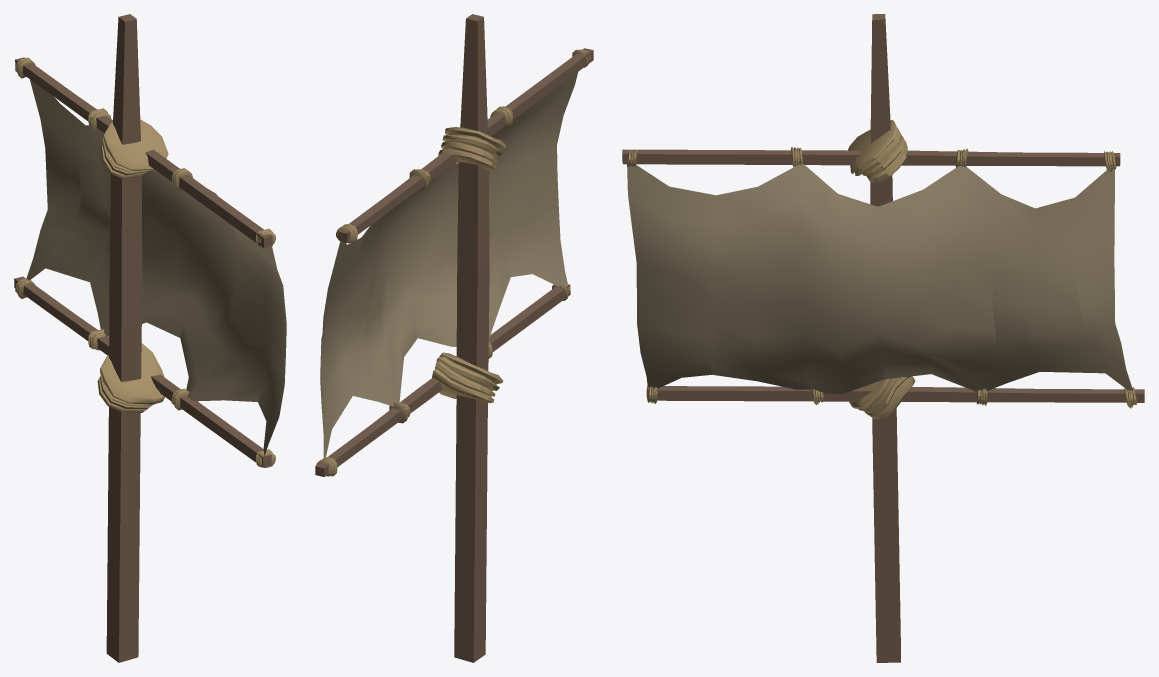
File: Mast.fbx
The picture shows the model from 3 angles, left to right: view 1: azimuth 30°, elevation 25°; view 2: azimuth 150°, elevation 25°; view 3: azimuth 270°, elevation 25°; orthographic projection.
Visible parts, largest first — view 1: Plane.005, Plane.004; view 2: Plane.005, Plane.004; view 3: Plane.005, Plane.004.
Part boxes in pixels (<box>): Plane.005: <box>26,79,286,456</box>; Plane.004: <box>14,14,275,662</box>; Plane.005: <box>320,72,577,459</box>; Plane.004: <box>315,14,593,662</box>; Plane.005: <box>627,159,1132,394</box>; Plane.004: <box>622,14,1144,662</box>.
Size of the model in its own units: 85.46 by 527 by 389.
